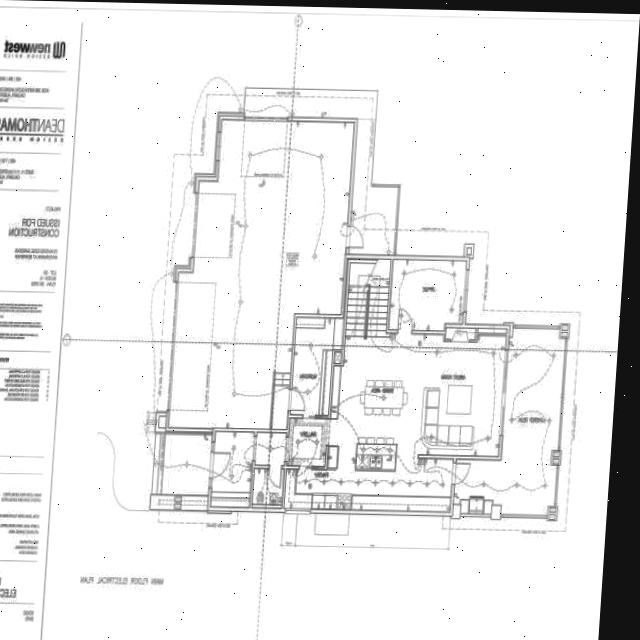room: (389, 259, 467, 332), (290, 316, 344, 417), (252, 467, 284, 510)
